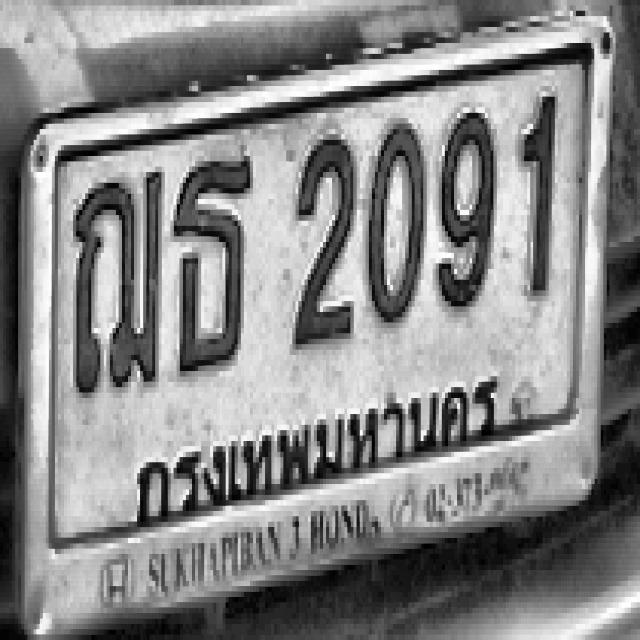license-plate: (18, 0, 614, 640)
